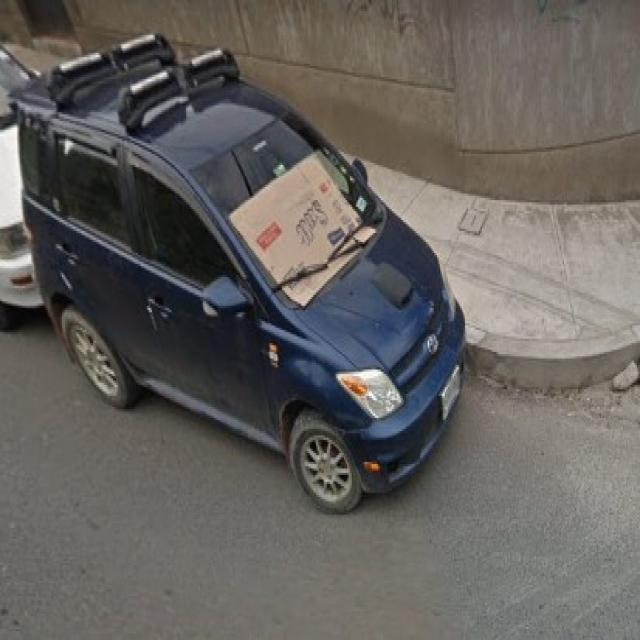Car: (23, 48, 457, 508)
